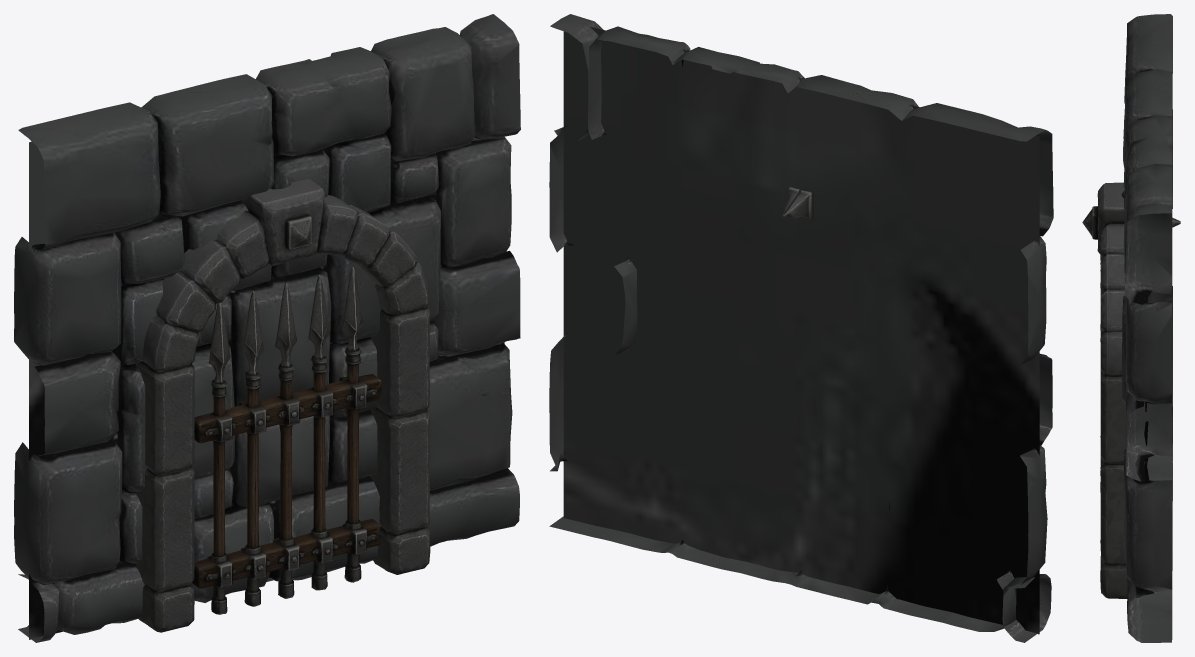
Rendered from Wall_Pikes.fbx.
3 views of the same model, side by side, from view 1: azimuth 30°, elevation 25°; view 2: azimuth 150°, elevation 25°; view 3: azimuth 270°, elevation 25° (orthographic). The views are drawn at different scales.
Parts seen in each view (by area): view 1: Wall_Pikes; view 2: Wall_Pikes; view 3: Wall_Pikes.
Boxes of the visible parts, box(x1,y1,x2,y2) form: Wall_Pikes: box(14, 14, 520, 642); Wall_Pikes: box(549, 14, 1053, 642); Wall_Pikes: box(1082, 14, 1180, 642).
Bounding box in the file's own units: 303 × 302 × 62.66.
Materials: 2 (2 with a texture image).
